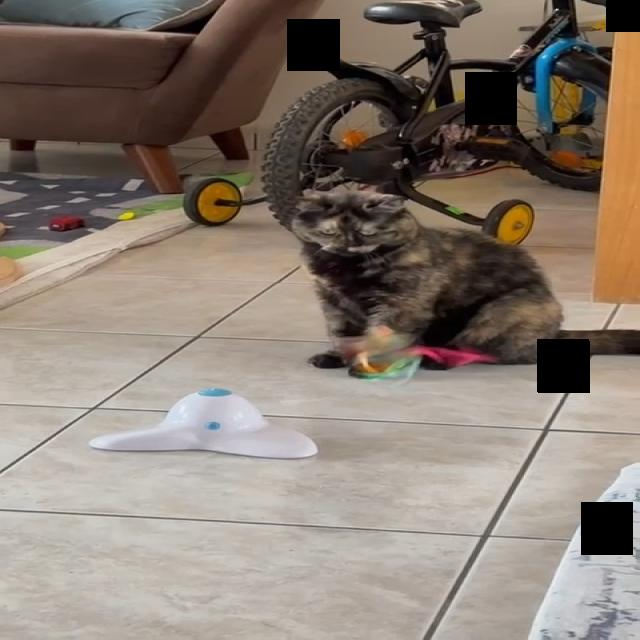authorized: (288, 188, 639, 370)
